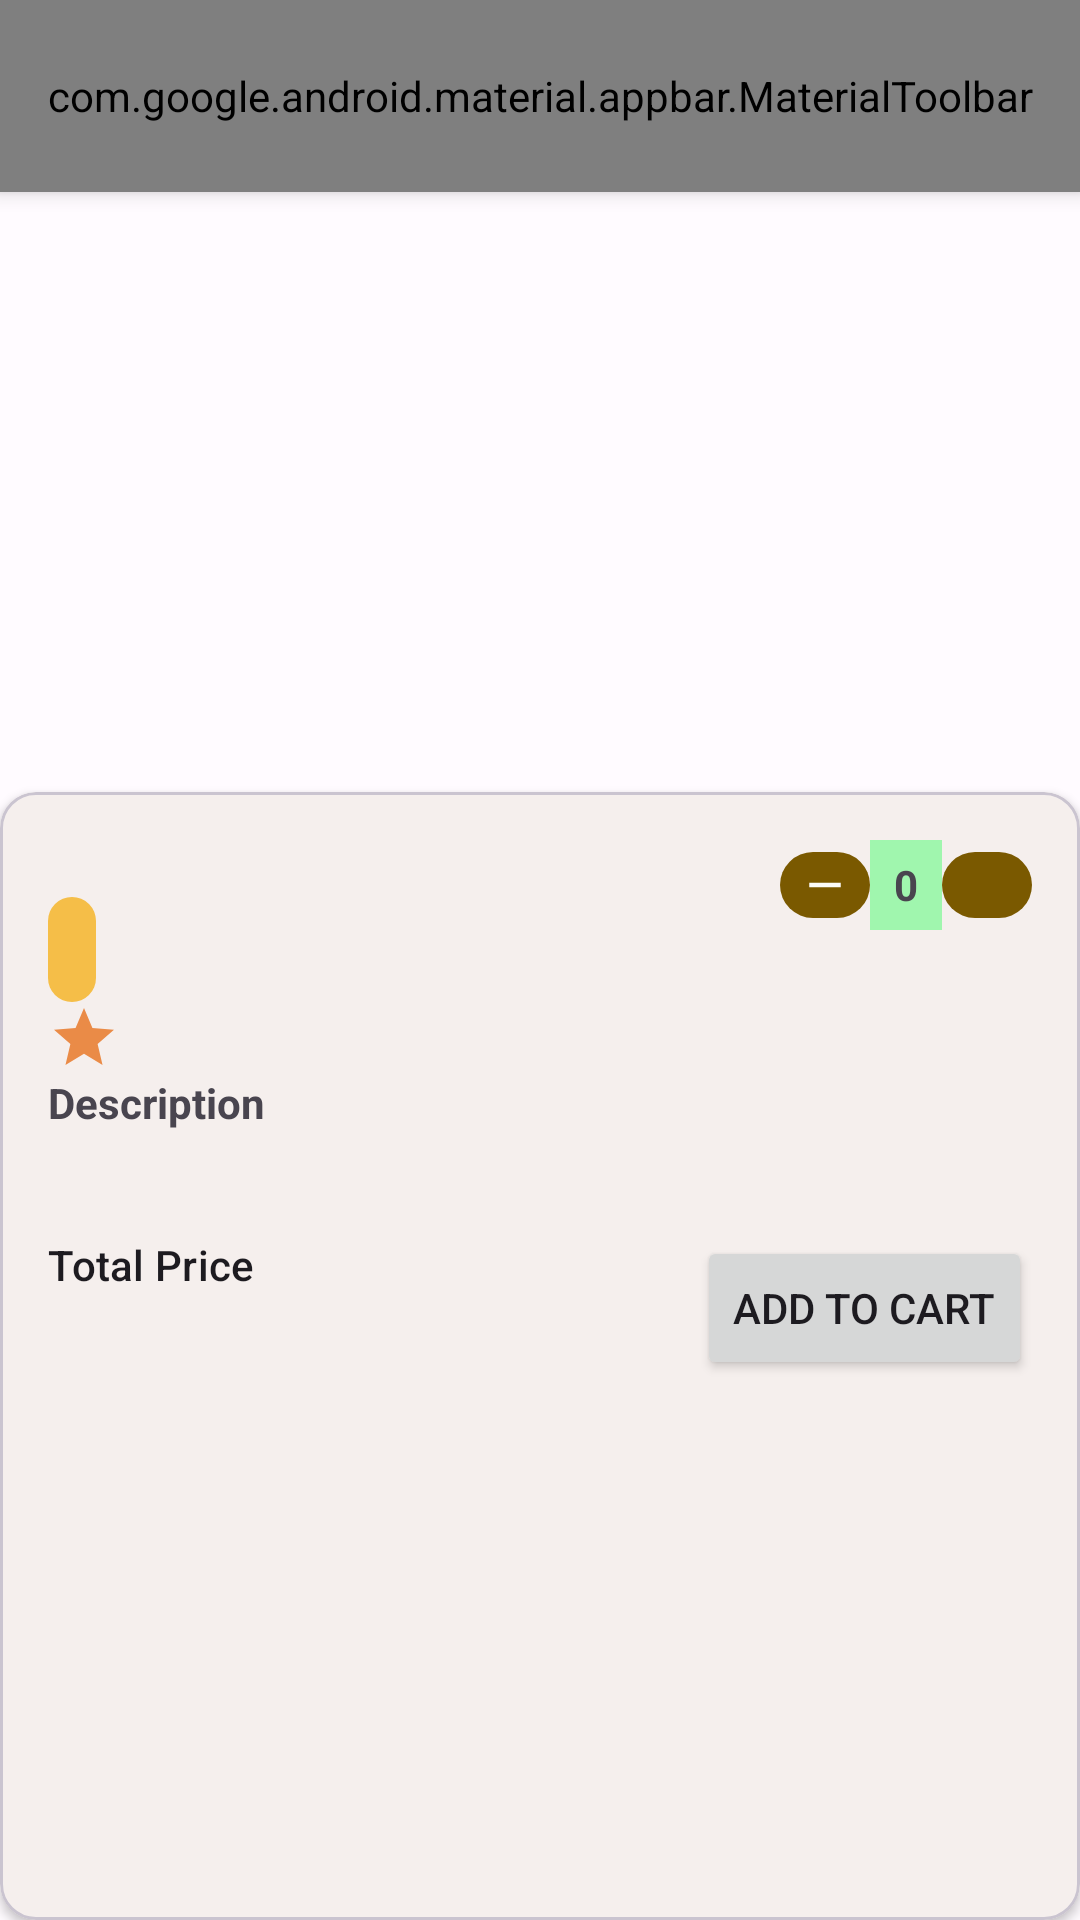

Screen size 1080 x 1920. Icon name, then its center in pixels as [x,y]:
order rating icon: [84,1036]
remove: [825,885]
